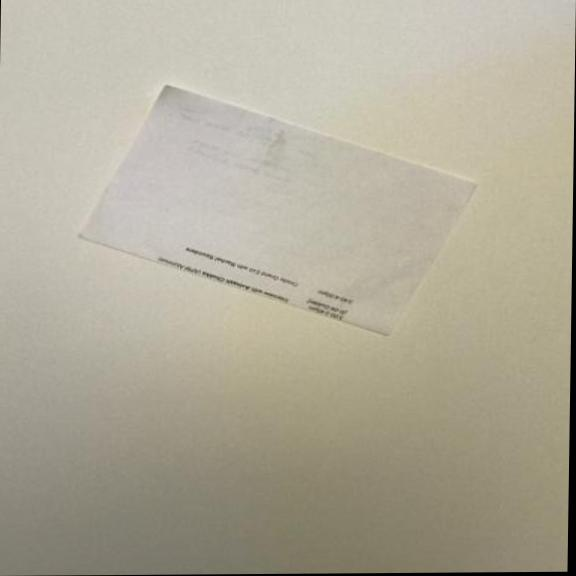Kertas: (69, 71, 502, 341)
